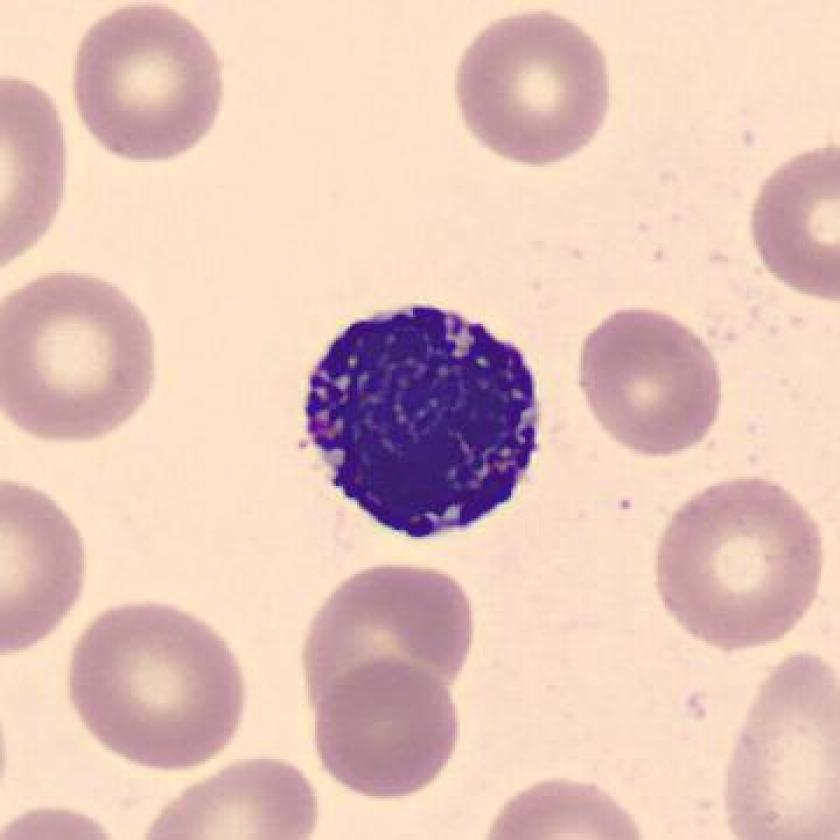basophil: (290, 293, 552, 552)
